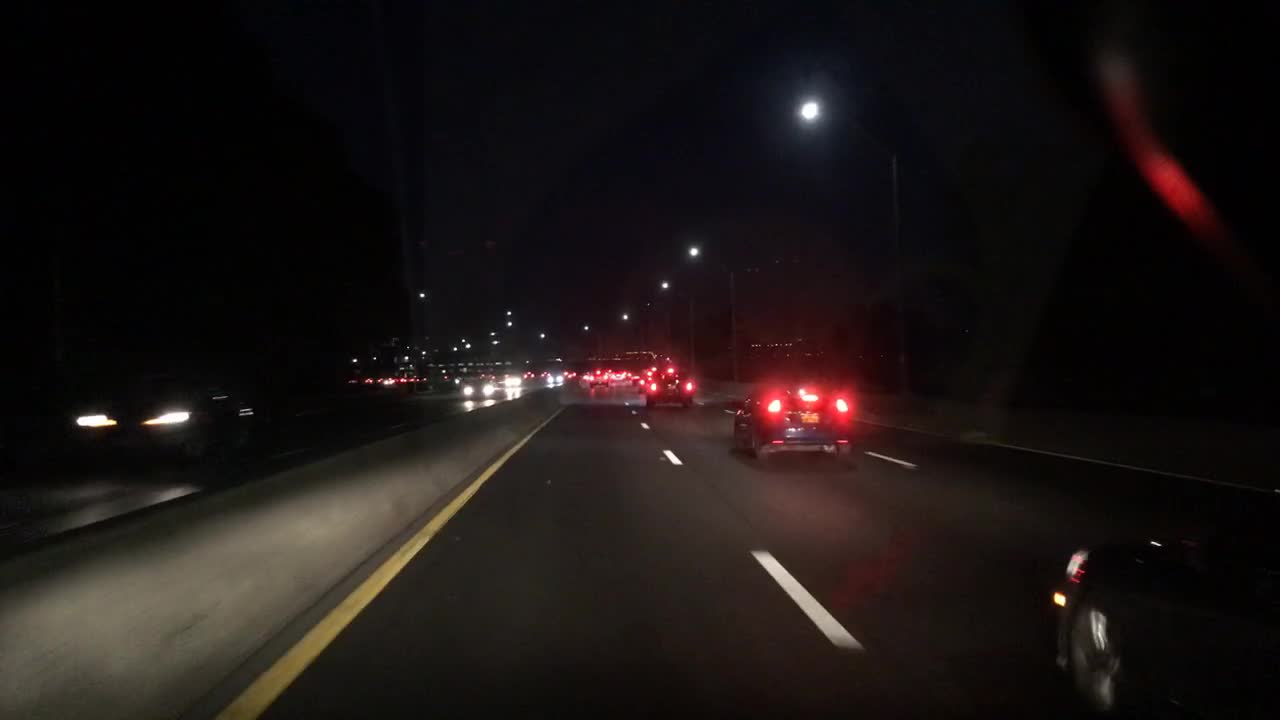car: (1046, 528, 1280, 719), (63, 375, 259, 470), (730, 375, 860, 467), (639, 362, 692, 412), (460, 372, 503, 402), (586, 370, 612, 396), (632, 365, 653, 392), (498, 372, 521, 390), (541, 367, 564, 381), (521, 367, 533, 381)
